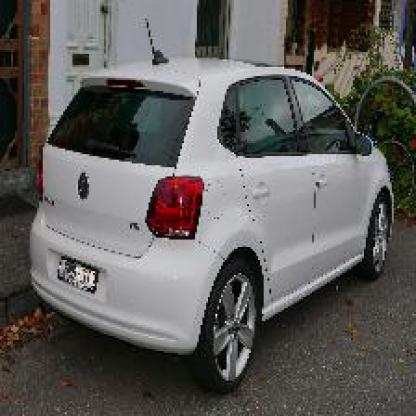not_emergency: (28, 55, 392, 364)
